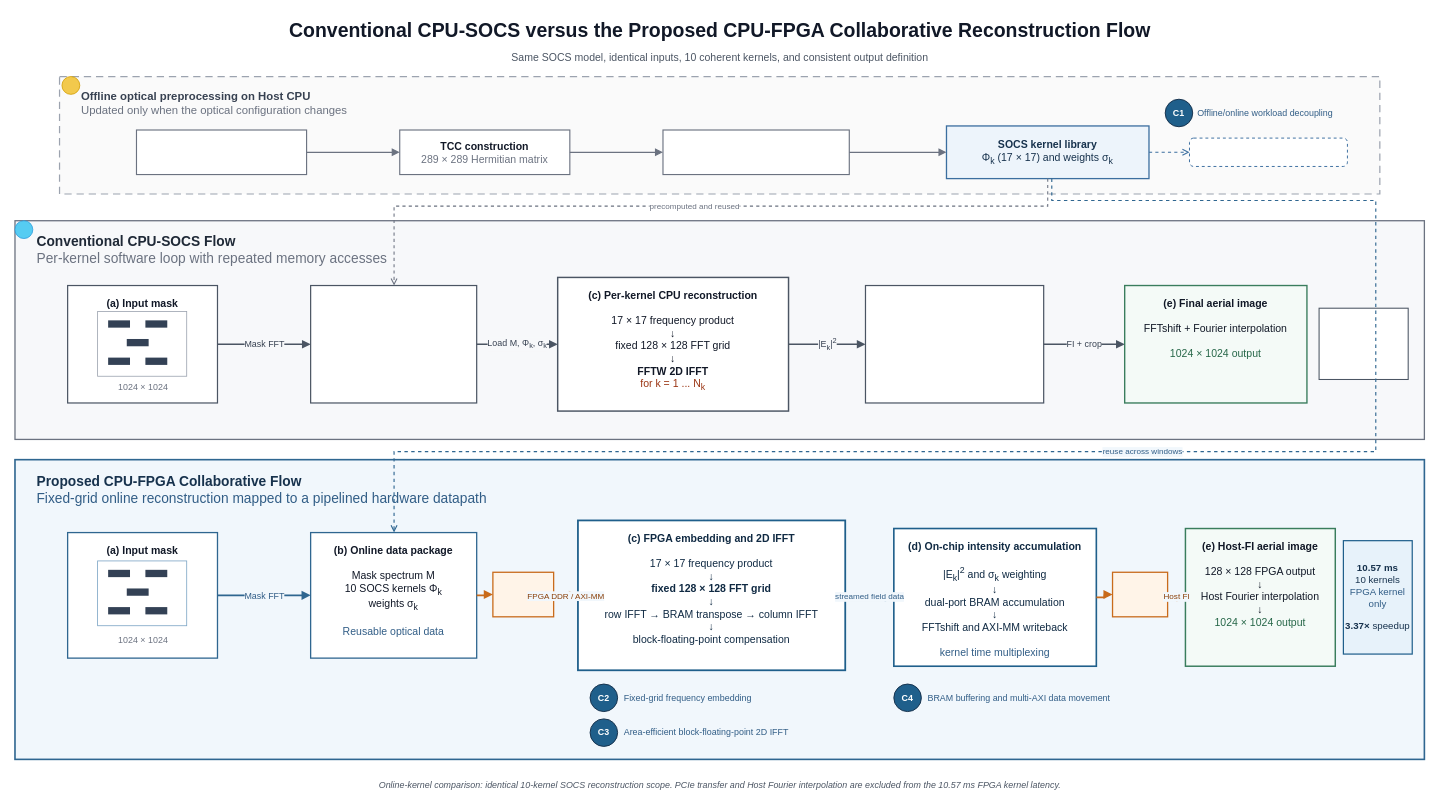
Some shapes in this 1439 by 811 pixel diagram are drawn without their labels. The shapes that lost their labels are listed below. From the top down, each one's centre as x and y in pixels, then its label:
At (221,152): "Optical configuration source, pupil, aberration".
At (755,152): "Eigenvalue decomposition low-rank SOCS approximation".
At (1268,152): "Reusable across mask windows".
At (393,344): "(b) Frequency inputs Mask spectrum M Φ k kernel library σ k eigenvalue weights".
At (954,344): "(d) Weighted accumulation |E k | 2 ↓ σ k weighting ↓ software accumulation".
At (1363,343): "35.6 ms 10 kernels CPU C++ online SOCS".
At (523,594): "PCIe XDMA H2C".
At (1139,594): "XDMA C2H".
